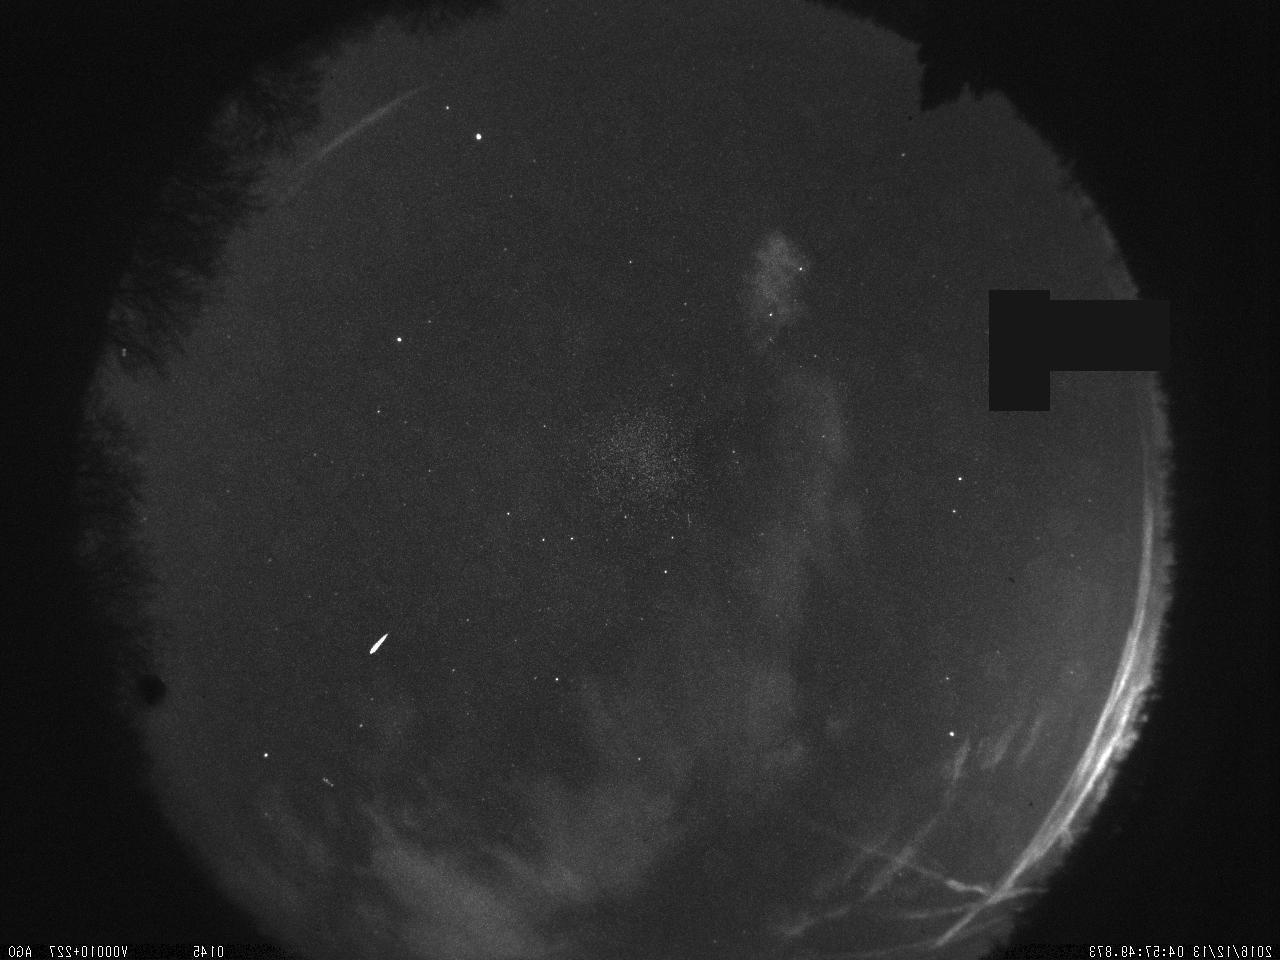meteor: (359, 627, 393, 668)
